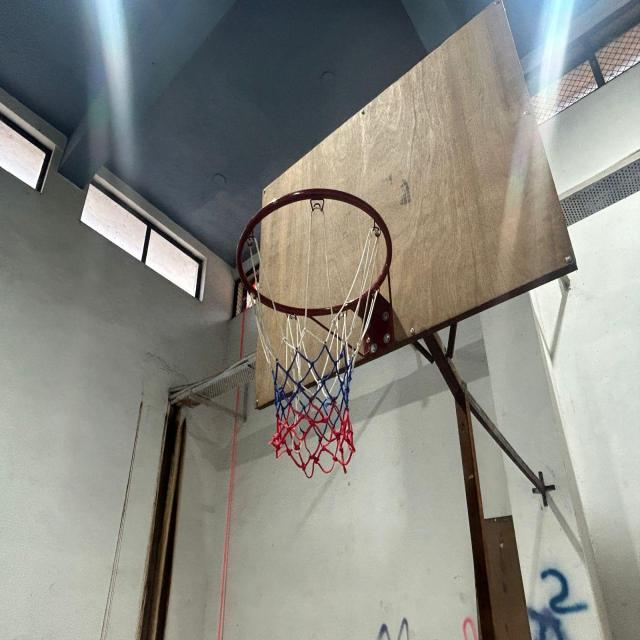hoop: (222, 188, 406, 486)
